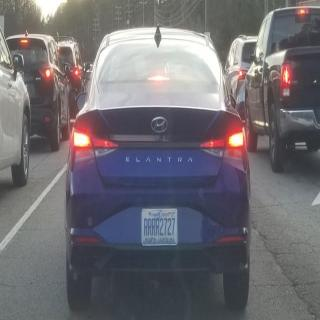license: (142, 208, 179, 248)
